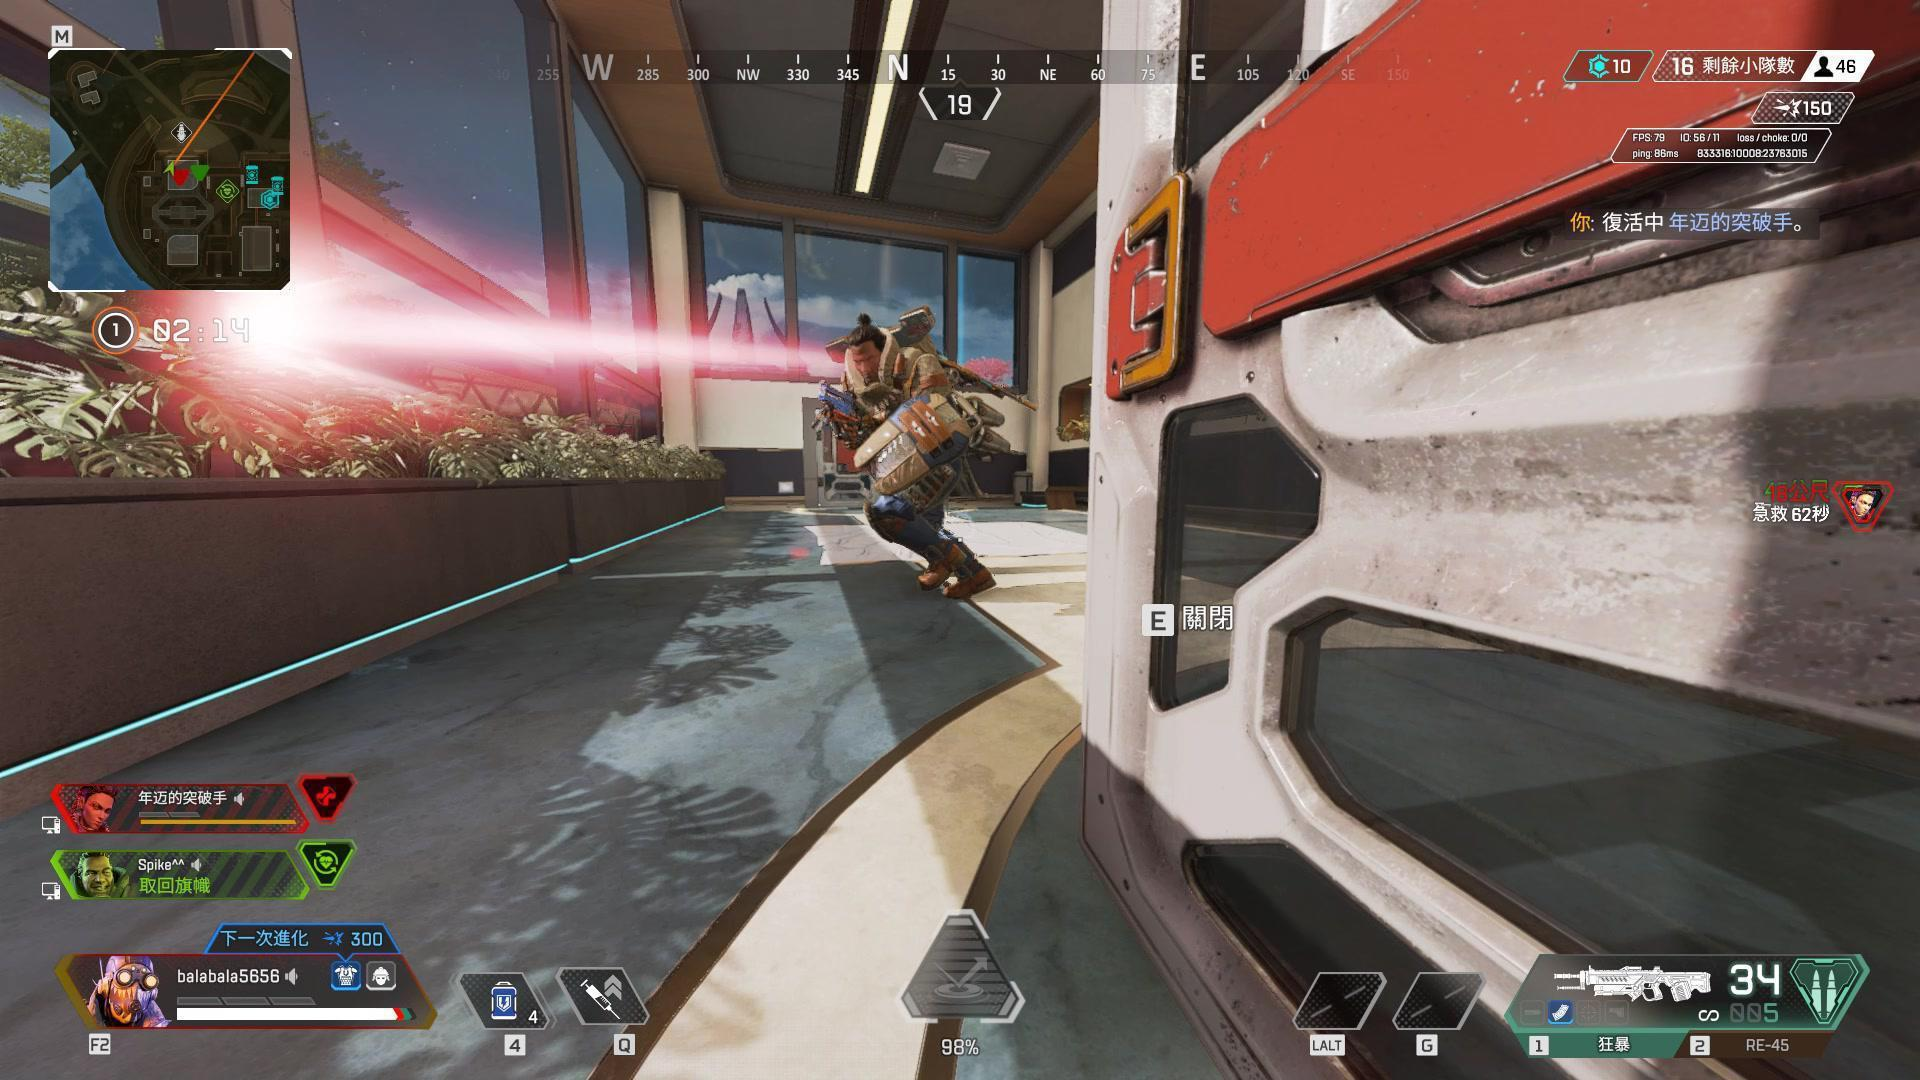avatar: (815, 304, 1002, 604)
